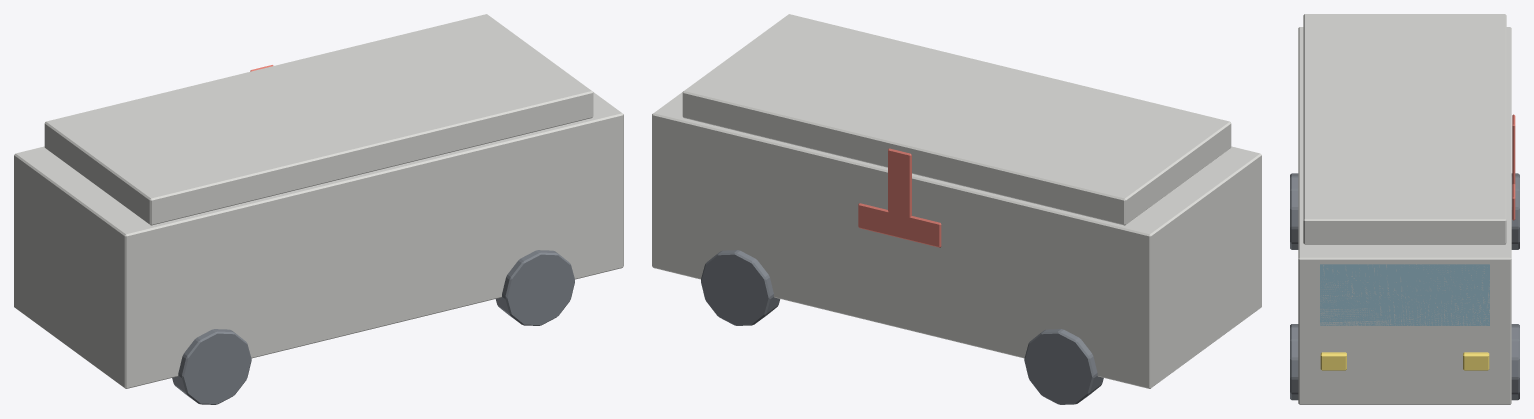
File: 车_救护车_01.fbx
3 renders of one model, left to right at view 1: azimuth 30°, elevation 25°; view 2: azimuth 150°, elevation 25°; view 3: azimuth 270°, elevation 25°, orthographic. The views are drawn at different scales.
Visible parts, largest first — view 1: 车身.003, 车顶.003, 车轮.005; view 2: 车身.003, 车顶.003, 车轮.005, 红十字; view 3: 车顶.003, 车身.003, 车窗.003, 车轮.005, 车灯.003, 红十字.
Boxes of the visible parts, <box> form: 车身.003: <box>14,92,623,388</box>; 车顶.003: <box>44,14,593,225</box>; 车轮.005: <box>172,250,574,404</box>; 车身.003: <box>652,92,1261,388</box>; 车顶.003: <box>682,14,1231,225</box>; 车轮.005: <box>701,250,1103,404</box>; 红十字: <box>858,148,941,247</box>; 车顶.003: <box>1303,14,1506,244</box>; 车身.003: <box>1298,27,1511,404</box>; 车窗.003: <box>1320,264,1489,325</box>; 车轮.005: <box>1290,173,1519,400</box>; 车灯.003: <box>1320,352,1489,370</box>; 红十字: <box>1512,114,1515,220</box>.
Size of the model in its own units: 546 by 223 by 226.
